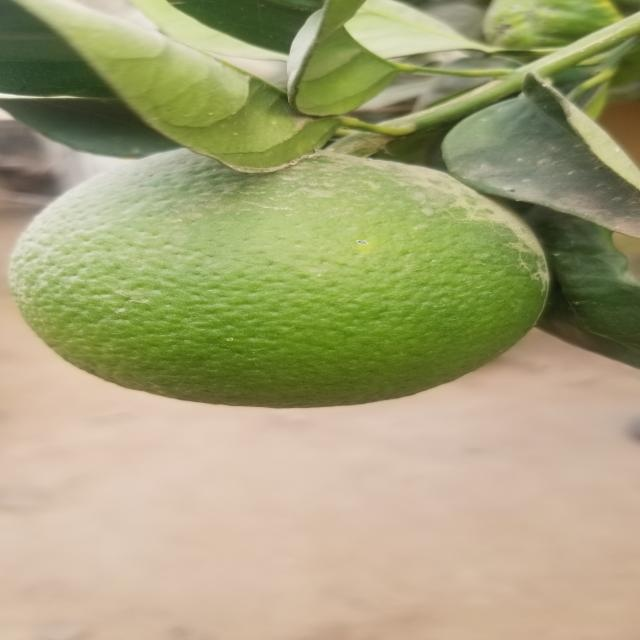agrume: (0, 149, 568, 419)
